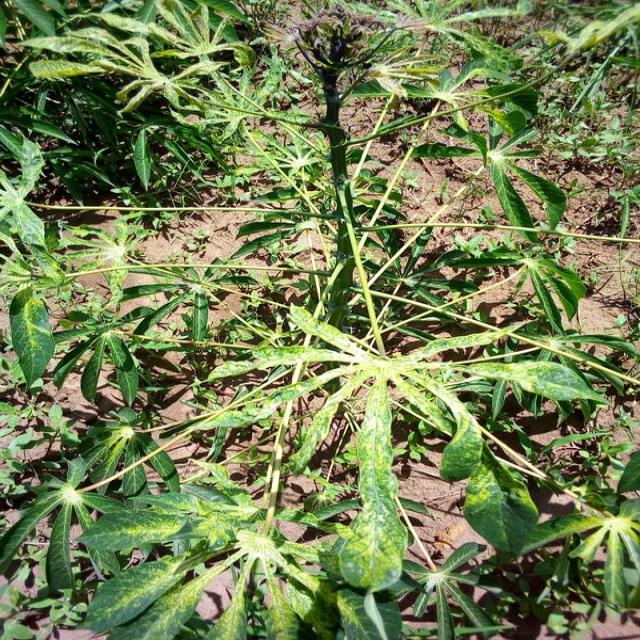cassava leaf: (335, 377, 408, 592), (8, 287, 55, 389)
